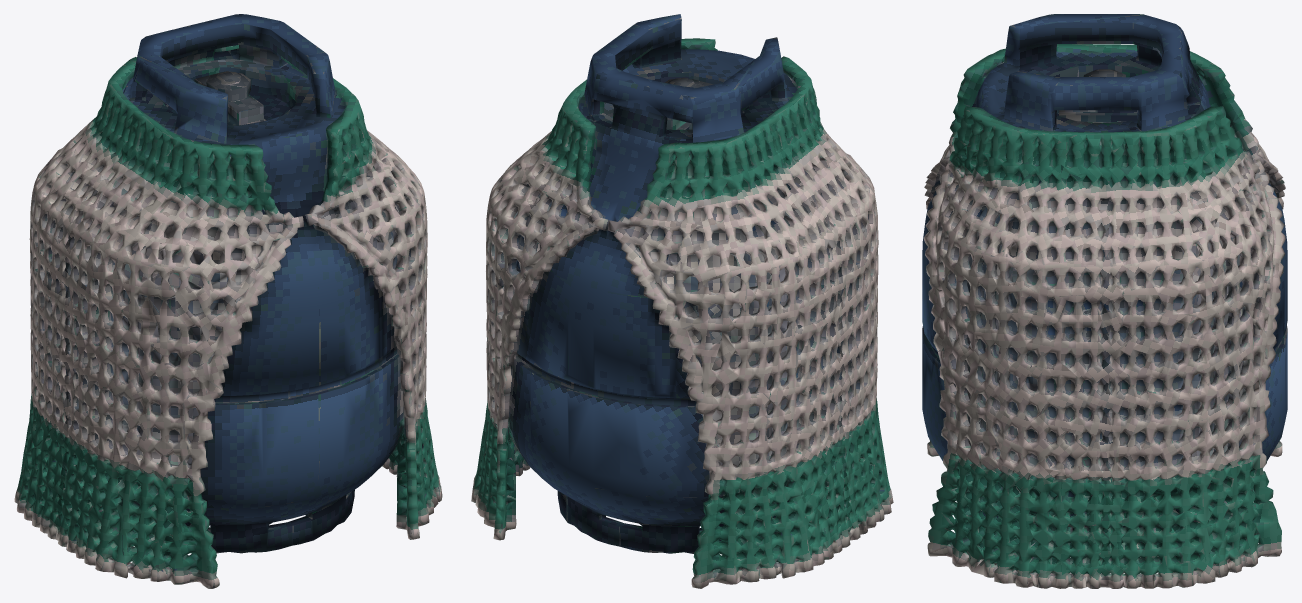
Rendered from gas_cylinder_psx.glb.
3 views of the same model, side by side, from view 1: azimuth 30°, elevation 25°; view 2: azimuth 150°, elevation 25°; view 3: azimuth 270°, elevation 25° (orthographic). The views are drawn at different scales.
Visible parts, largest first — view 1: gas_cylinder_psx; view 2: gas_cylinder_psx; view 3: gas_cylinder_psx.
Part boxes in pixels (bbox=[...]): gas_cylinder_psx: bbox=[14, 14, 442, 588]; gas_cylinder_psx: bbox=[471, 14, 893, 588]; gas_cylinder_psx: bbox=[922, 14, 1287, 588].
Bounding box in the file's own units: 0.742 × 0.9116 × 0.6641.
Materials: 1 (1 with a texture image).
